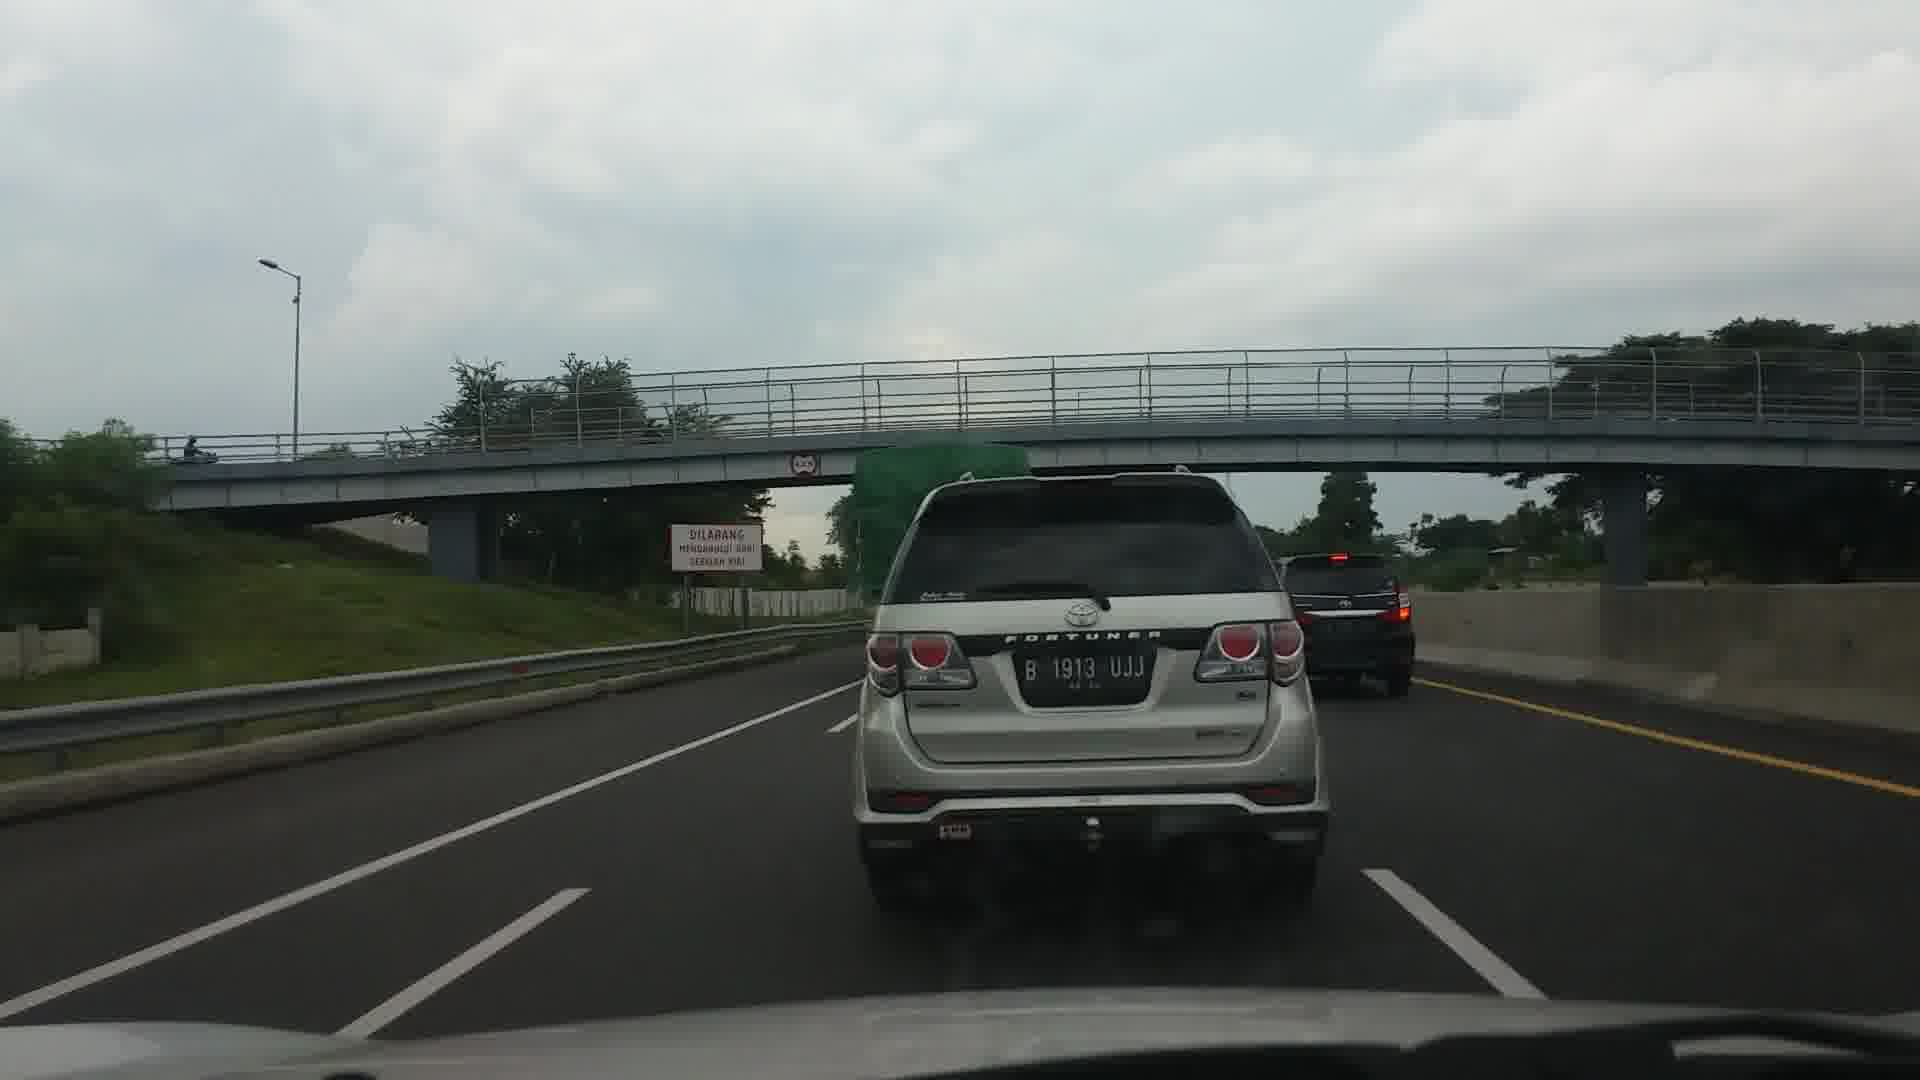plate_positive: (1021, 651, 1147, 691)
